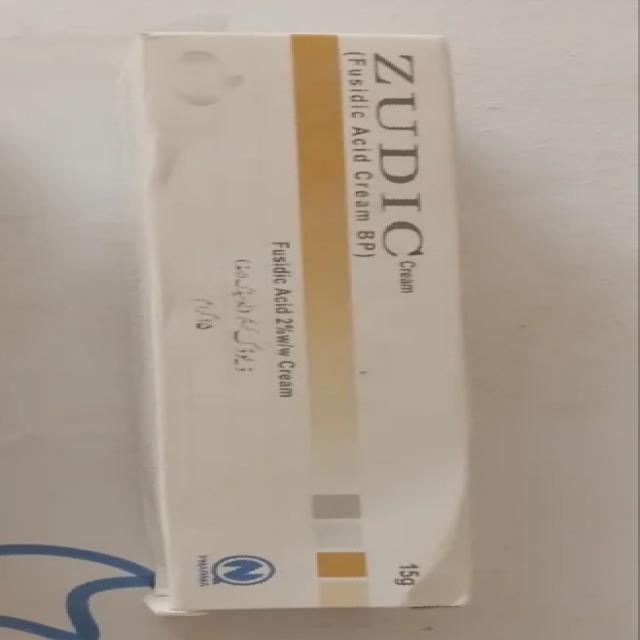drug-name: (373, 44, 428, 260)
